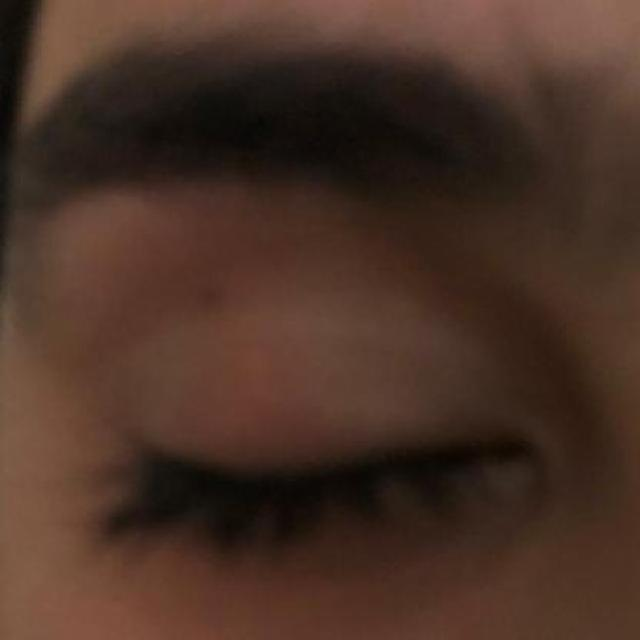drowsy: (110, 372, 542, 610)
